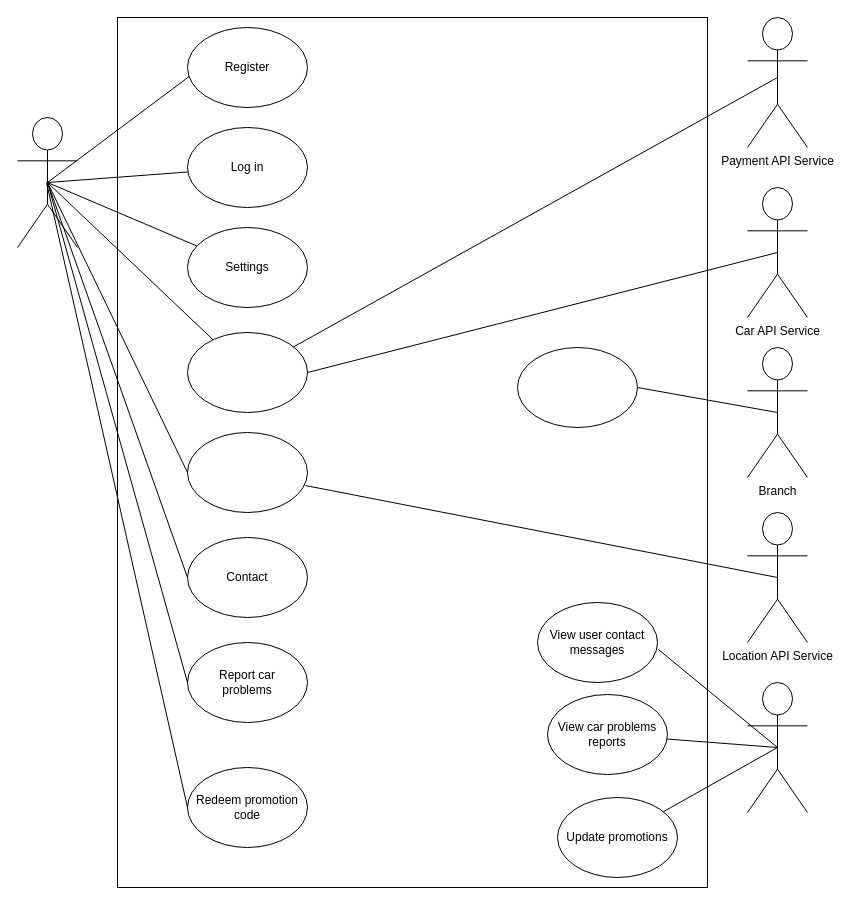
Some shapes in this 851 by 905 pixel diagram are drawn without their labels. Each missing label, with the centre of its shape:
Admin: [777,747]
Find Stores: [247,472]
Rent a car: [247,372]
User: [47,182]
View car rental reports: [577,387]
